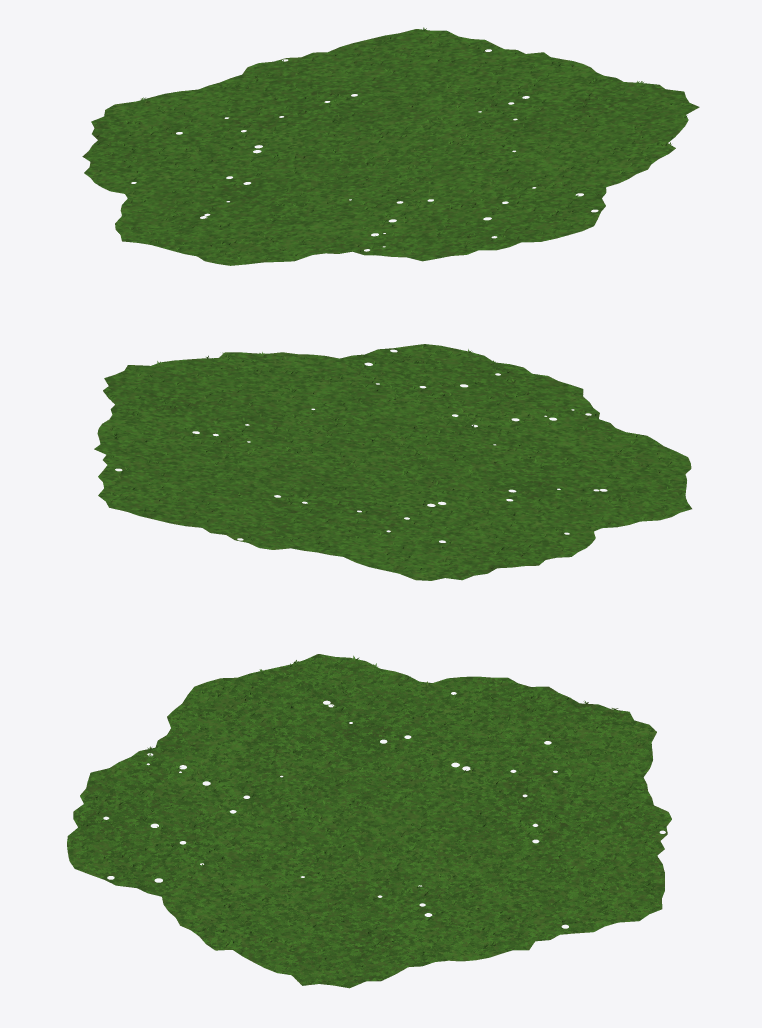
The model's file is Ground_Moss_Patch_01_LOD0.fbx.
The picture shows the model from 3 angles, top to bottom: view 1: azimuth 30°, elevation 25°; view 2: azimuth 150°, elevation 25°; view 3: azimuth 270°, elevation 25°; orthographic projection. The views are drawn at different scales.
Visible parts, largest first — view 1: Ground_Moss_Patch_01_LOD0_Mesh; view 2: Ground_Moss_Patch_01_LOD0_Mesh; view 3: Ground_Moss_Patch_01_LOD0_Mesh.
Boxes of the visible parts, bbox=[...] form: Ground_Moss_Patch_01_LOD0_Mesh: bbox=[82, 27, 699, 265]; Ground_Moss_Patch_01_LOD0_Mesh: bbox=[94, 344, 691, 580]; Ground_Moss_Patch_01_LOD0_Mesh: bbox=[67, 654, 671, 988].
Size of the model in its own units: 200 by 1.48 by 160.
Materials: 1 (1 with a texture image).
